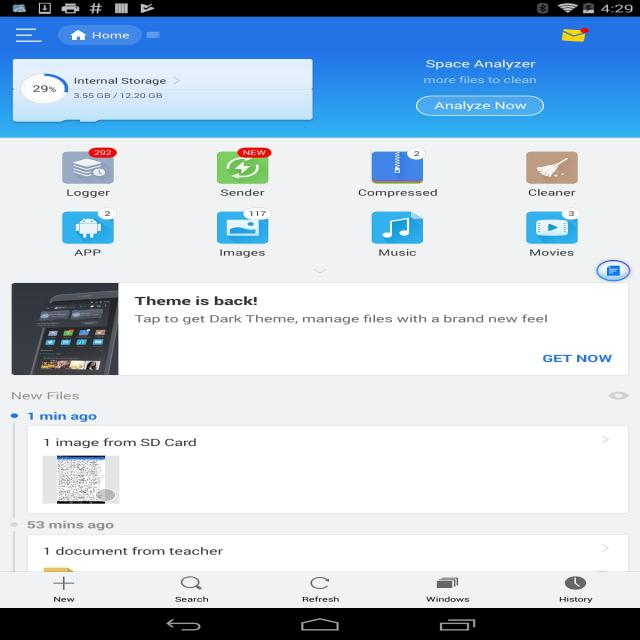button: (28, 424, 629, 514), (28, 536, 627, 572), (13, 58, 311, 120), (355, 146, 441, 202), (515, 145, 592, 200), (53, 144, 123, 202), (208, 145, 275, 203), (518, 202, 584, 260), (215, 206, 276, 262), (362, 209, 428, 259), (58, 207, 120, 260), (416, 94, 546, 116), (420, 570, 481, 609), (158, 572, 224, 608), (29, 574, 102, 606), (290, 572, 352, 608), (60, 24, 141, 46), (554, 572, 600, 608), (71, 74, 182, 87), (558, 27, 598, 45), (12, 23, 44, 45), (594, 430, 620, 448), (595, 539, 618, 556), (304, 263, 328, 279), (92, 487, 116, 502), (606, 388, 630, 402)
iframe: (12, 282, 627, 373)
image: (40, 456, 119, 505), (213, 146, 272, 184), (366, 148, 428, 184), (61, 148, 117, 184), (216, 208, 270, 245), (527, 207, 580, 244), (61, 208, 115, 244), (369, 211, 426, 244), (527, 151, 577, 182), (22, 73, 70, 104)
text: (416, 56, 545, 88), (34, 543, 230, 559), (38, 434, 198, 450), (26, 519, 120, 534), (357, 186, 439, 198), (68, 90, 171, 99), (9, 391, 84, 403), (25, 412, 102, 423), (218, 248, 268, 260), (529, 246, 576, 258), (525, 188, 578, 198), (64, 187, 110, 198), (218, 188, 266, 198), (375, 246, 418, 257), (70, 245, 104, 257)
